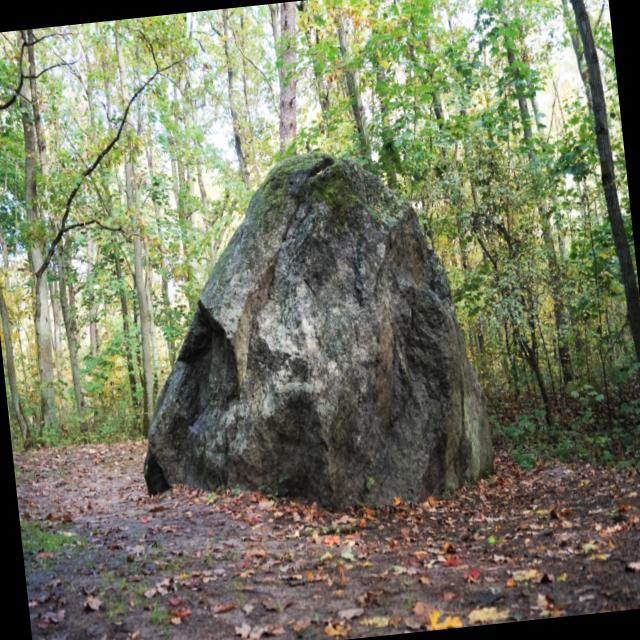stone: (144, 152, 493, 509)
white-sand: (12, 443, 640, 640)
